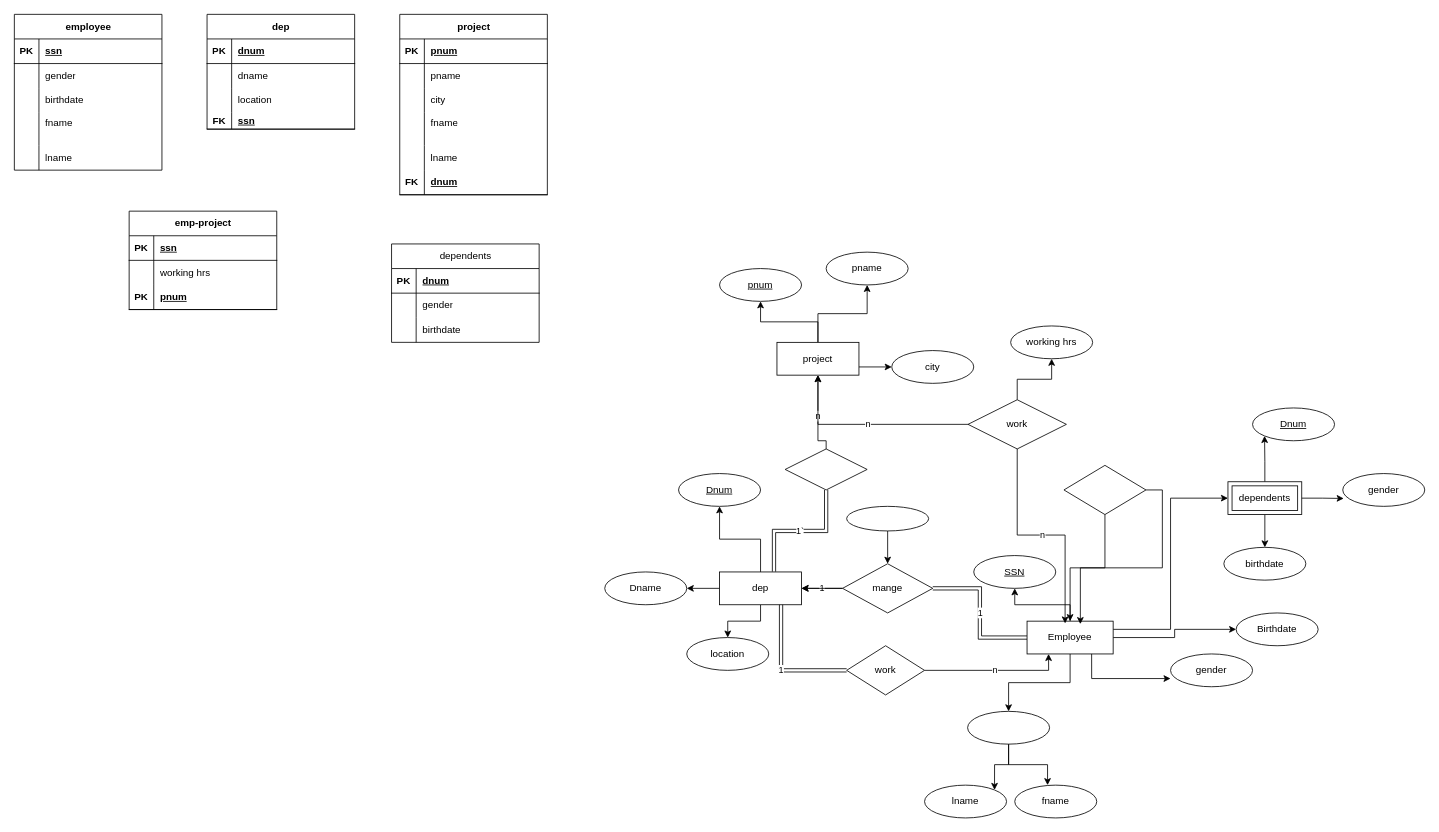
Some shapes in this 1439 by 832 pixel diagram are drawn without their labels. Here are the shapes that lost their labels. From the top down, the centre of each, then its label:
(825,469): own
(1104,490): supervisor
(887,518): hiring date
(1008,727): name
